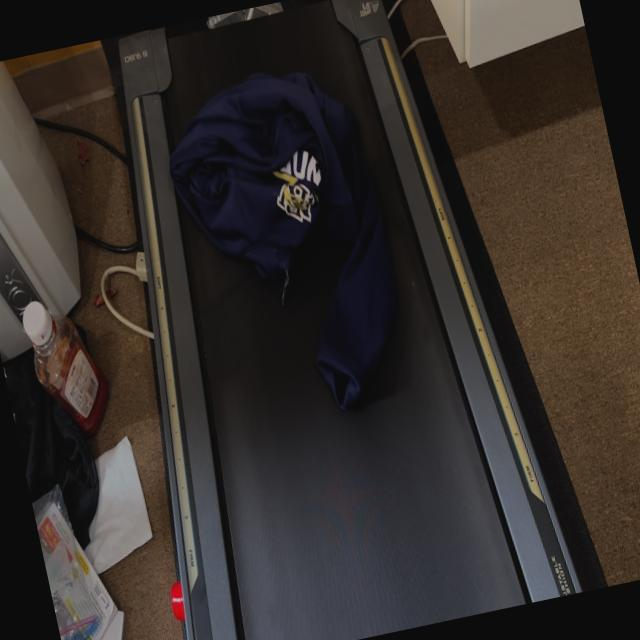Recycle: (202, 2, 282, 30)
Trash: (150, 49, 426, 440)
